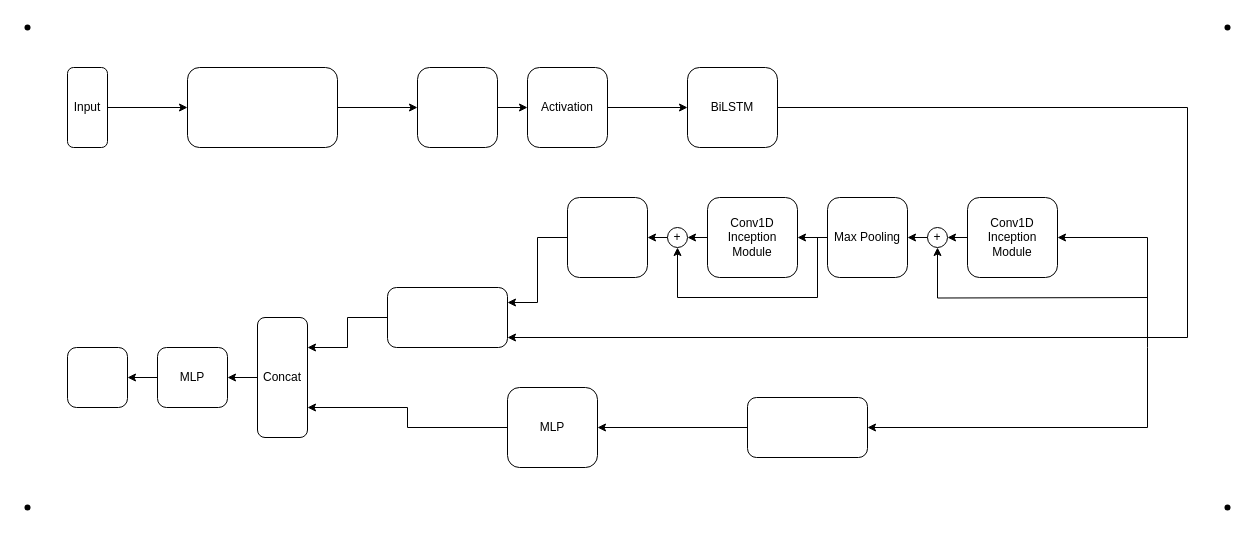
The diagram is 1255 pixels wide and 535 high, and some of its shapes have lost their labels. Each missing label, with the box of its shape:
Attention: (386, 286, 508, 348)
Attention Pooling: (746, 396, 868, 458)
FC: (416, 66, 498, 148)
Global Average Pooling: (566, 196, 648, 278)
Output: (66, 346, 128, 408)
PhoW2V (Pretrain Embedding): (186, 66, 338, 148)
